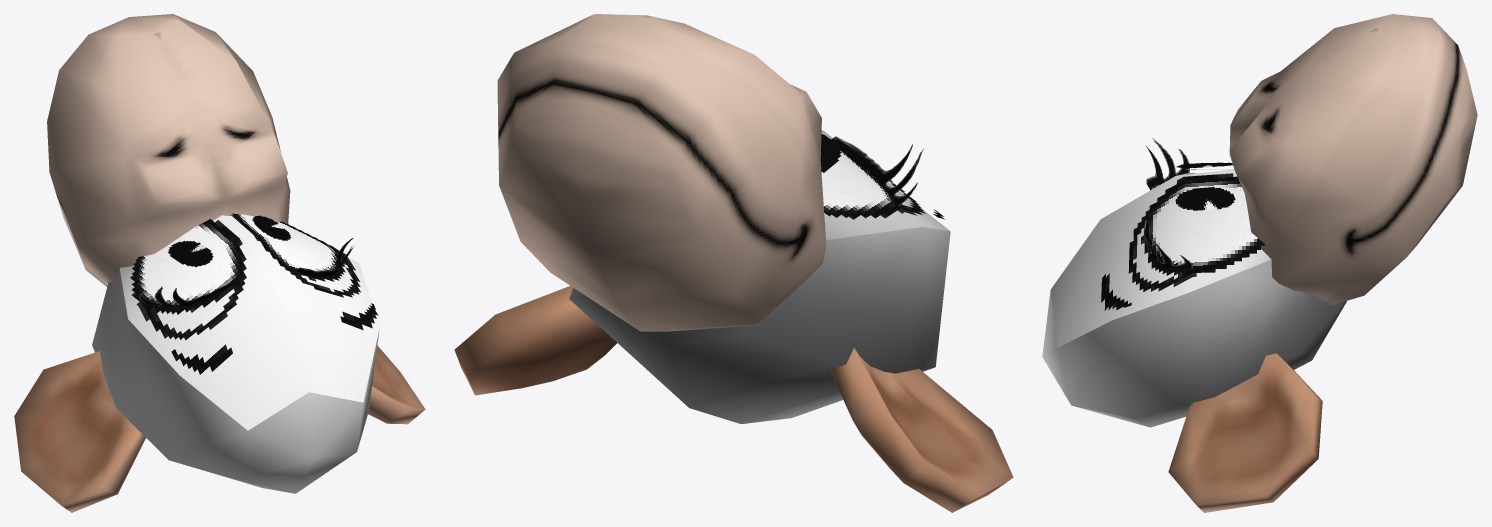
Rendered from pll.glb.
3 views of the same model, side by side, from view 1: azimuth 30°, elevation 25°; view 2: azimuth 150°, elevation 25°; view 3: azimuth 270°, elevation 25° (orthographic). The views are drawn at different scales.
Visible parts, largest first — view 1: muzzle-long-neutral, head-front-long, head-long, ears-long, eyes-long, eyelashes, joint_pupilL_long, joint_pupilR_long; view 2: muzzle-long-neutral, head-long, ears-long, eyes-long, head-front-long, eyelashes; view 3: muzzle-long-neutral, head-long, ears-long, head-front-long, eyes-long, eyelashes, joint_pupilR_long.
Boxes of the visible parts, left/top/right/bottom form: muzzle-long-neutral: left=47, top=14, right=290, bottom=286; head-front-long: left=119, top=215, right=379, bottom=430; head-long: left=92, top=268, right=379, bottom=493; ears-long: left=14, top=345, right=425, bottom=512; eyes-long: left=130, top=213, right=378, bottom=374; eyelashes: left=139, top=238, right=353, bottom=306; joint_pupilL_long: left=168, top=241, right=213, bottom=267; joint_pupilR_long: left=252, top=215, right=291, bottom=240; muzzle-long-neutral: left=497, top=14, right=826, bottom=331; head-long: left=569, top=226, right=950, bottom=424; ears-long: left=454, top=286, right=1013, bottom=512; eyes-long: left=821, top=134, right=944, bottom=219; head-front-long: left=821, top=130, right=949, bottom=239; eyelashes: left=831, top=136, right=923, bottom=205; muzzle-long-neutral: left=1229, top=14, right=1477, bottom=305; head-long: left=1042, top=259, right=1346, bottom=427; ears-long: left=1168, top=353, right=1322, bottom=512; head-front-long: left=1050, top=169, right=1271, bottom=347; eyes-long: left=1101, top=169, right=1264, bottom=310; eyelashes: left=1143, top=138, right=1192, bottom=268; joint_pupilR_long: left=1175, top=187, right=1235, bottom=210.
Size of the model in its own units: 1.92 by 1.81 by 1.79.
6 materials, 6 textured.
